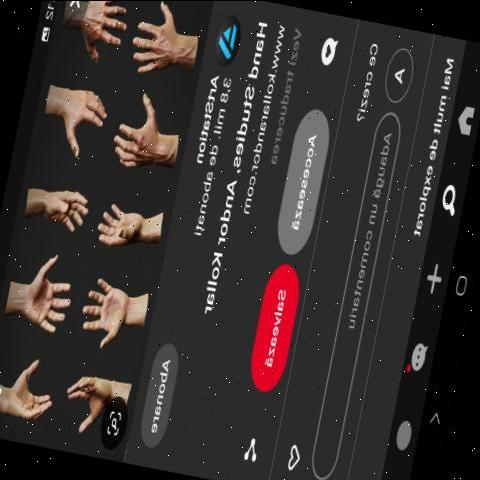Hands: (10, 251, 74, 346), (81, 269, 144, 358), (112, 85, 170, 177), (55, 76, 107, 170), (6, 354, 60, 440), (92, 194, 155, 266), (131, 4, 185, 82), (64, 369, 116, 436), (38, 177, 87, 243)
